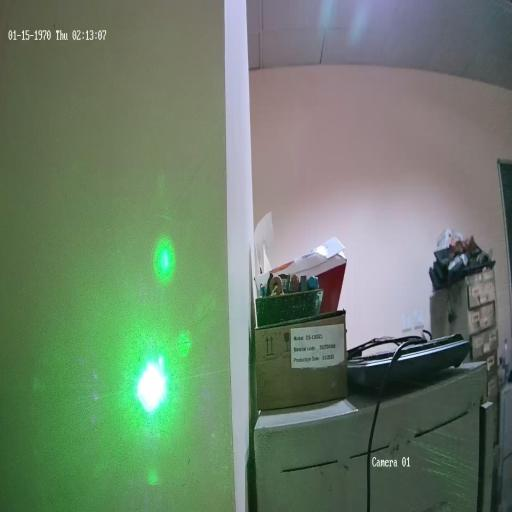laser: (134, 350, 168, 418)
